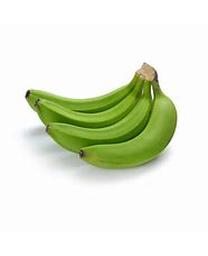banana: (26, 63, 177, 169)
